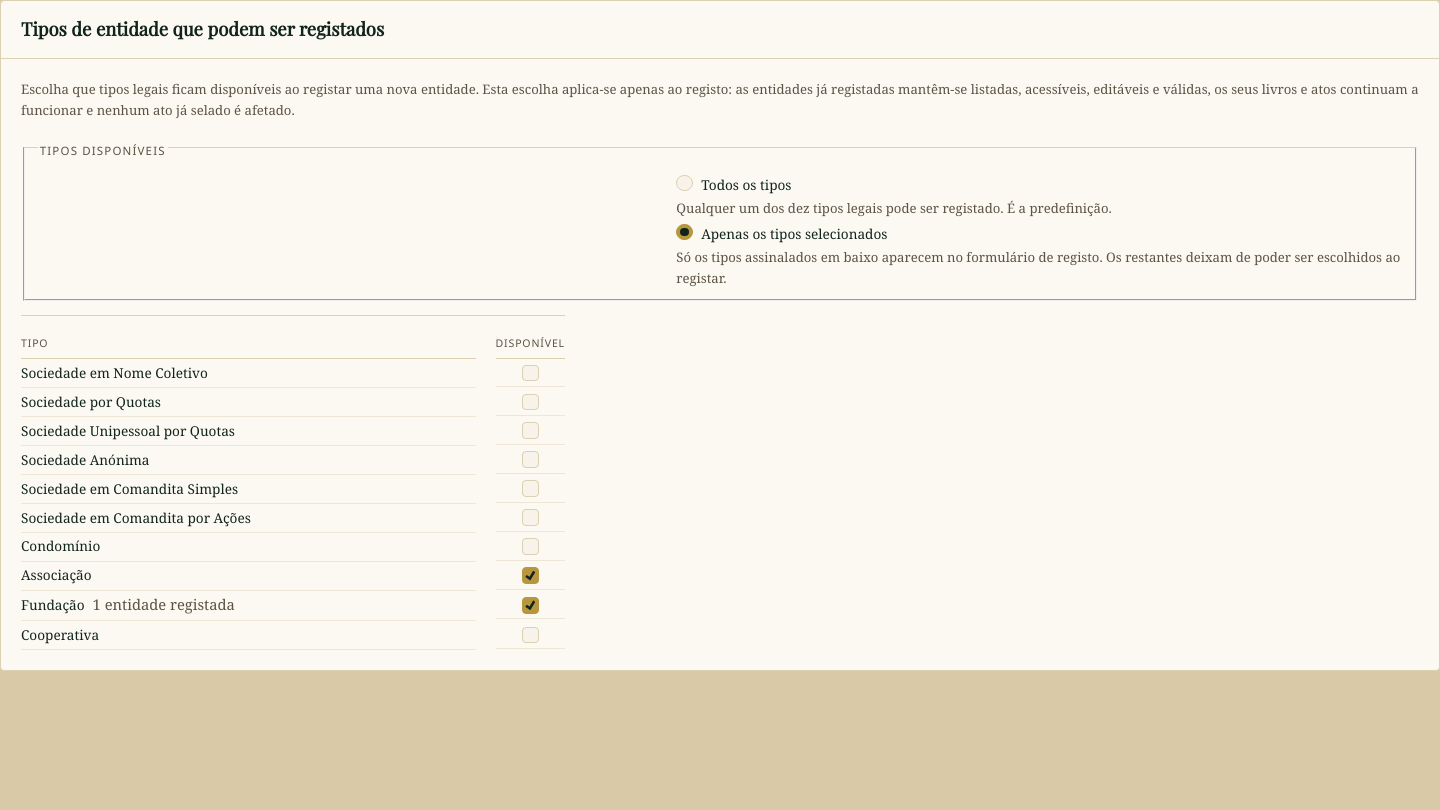
Test: EntityKindsSection — switching off a type that already has records › says one entity in the singular, never "1 entidades"
What coordinates should you click on to do the following:
click the checkbox labelled "Fundação 1 entidade registada"
I would click on:
 (530, 605)
Its box is x1=522 y1=597 x2=539 y2=614.
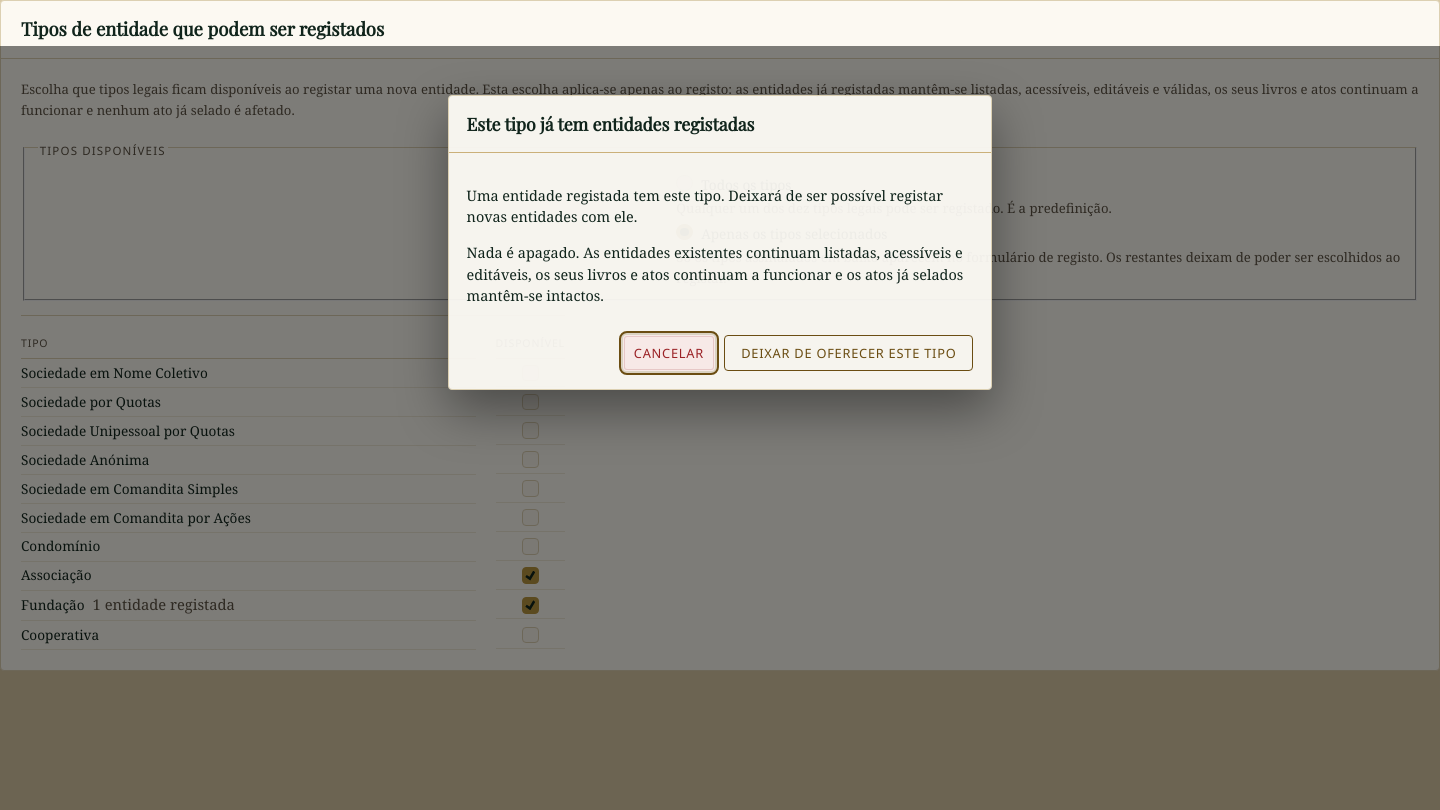
Result: the dialog shows "Uma entidade registada tem este tipo. Deixará de ser possível registar novas entidades com ele." at x1=467 y1=186 x2=943 y2=226
